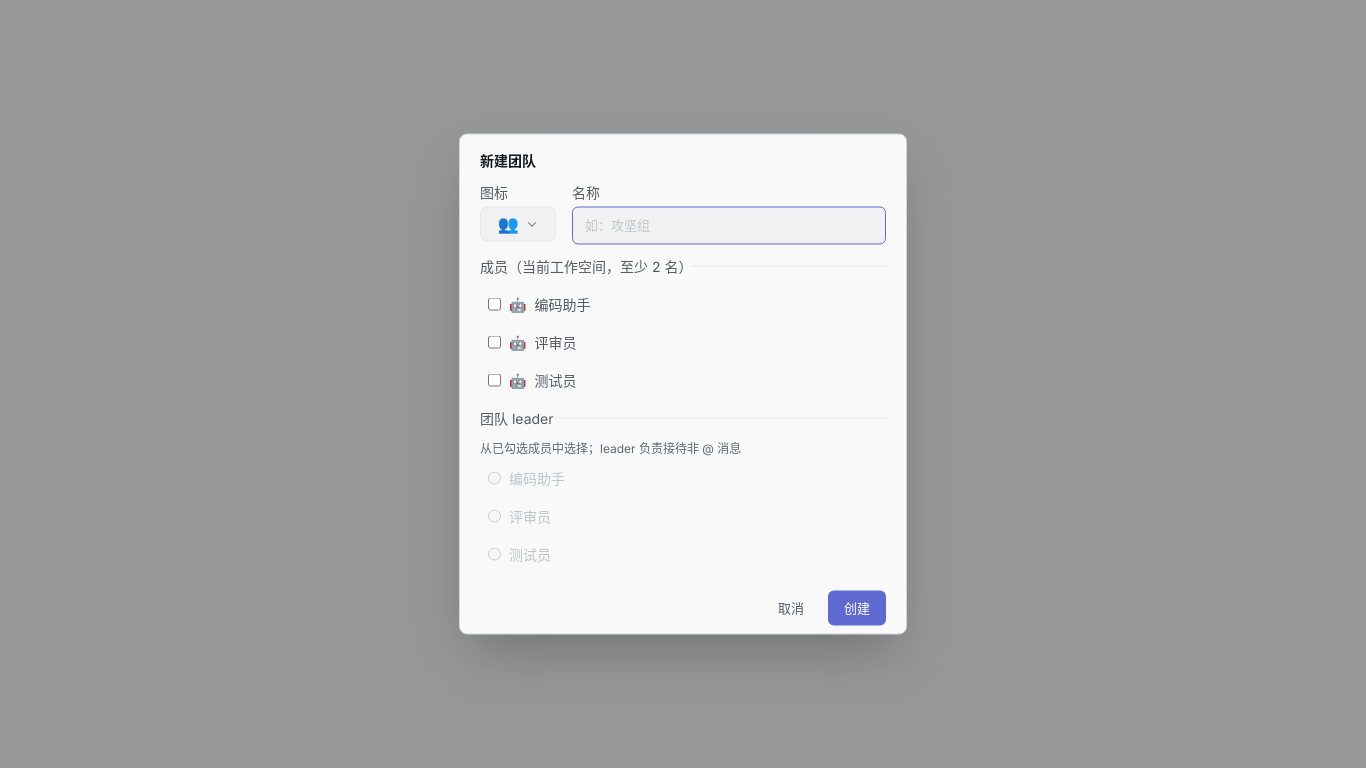
Scenario: TeamDialog — 创建模式校验 › 成员勾选不足 2 人 → 提示至少 2 名成员
This screenshot has width=1366, height=768.
Step 1. Type "攻坚组" into the field labelled "名称" → [729, 225], box [572,206,886,244]
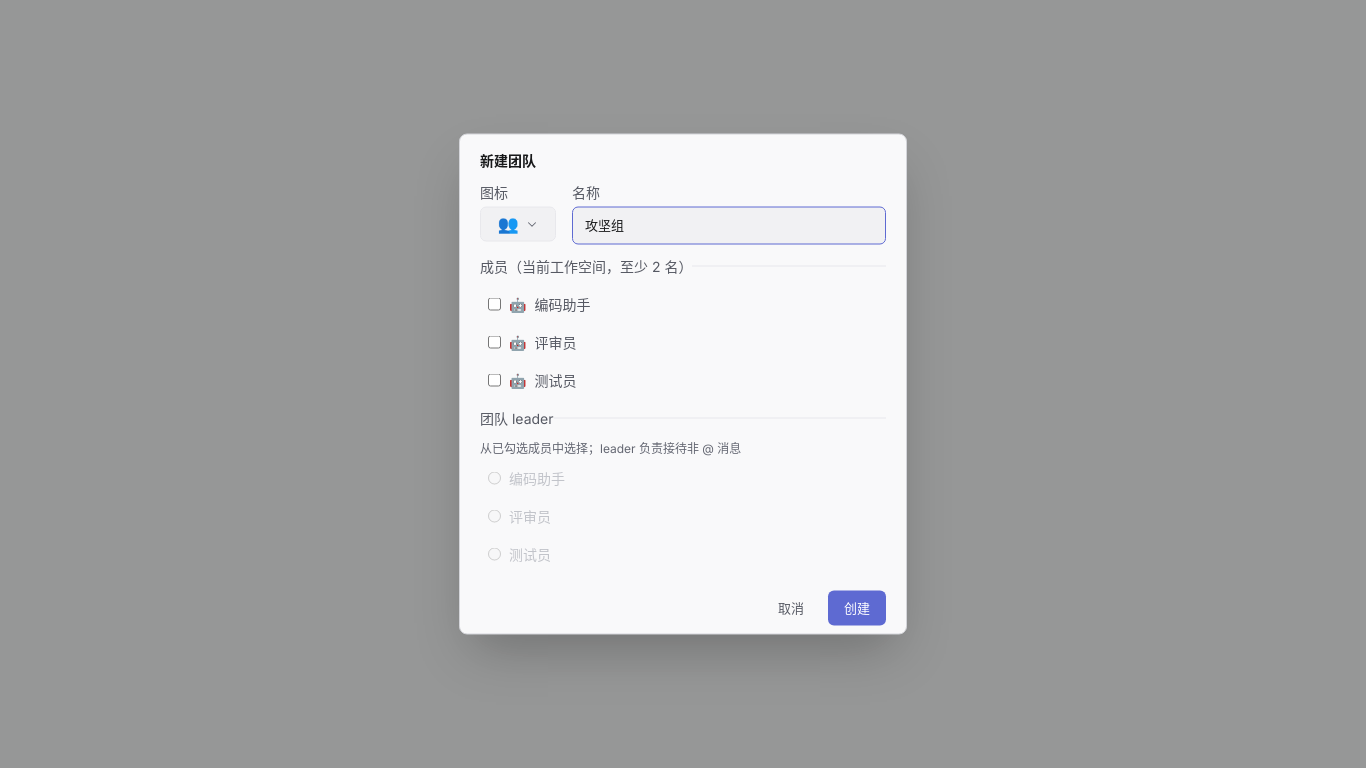
Step 2. Click the checkbox labelled "编码助手" → [494, 304], box [488,298,501,310]
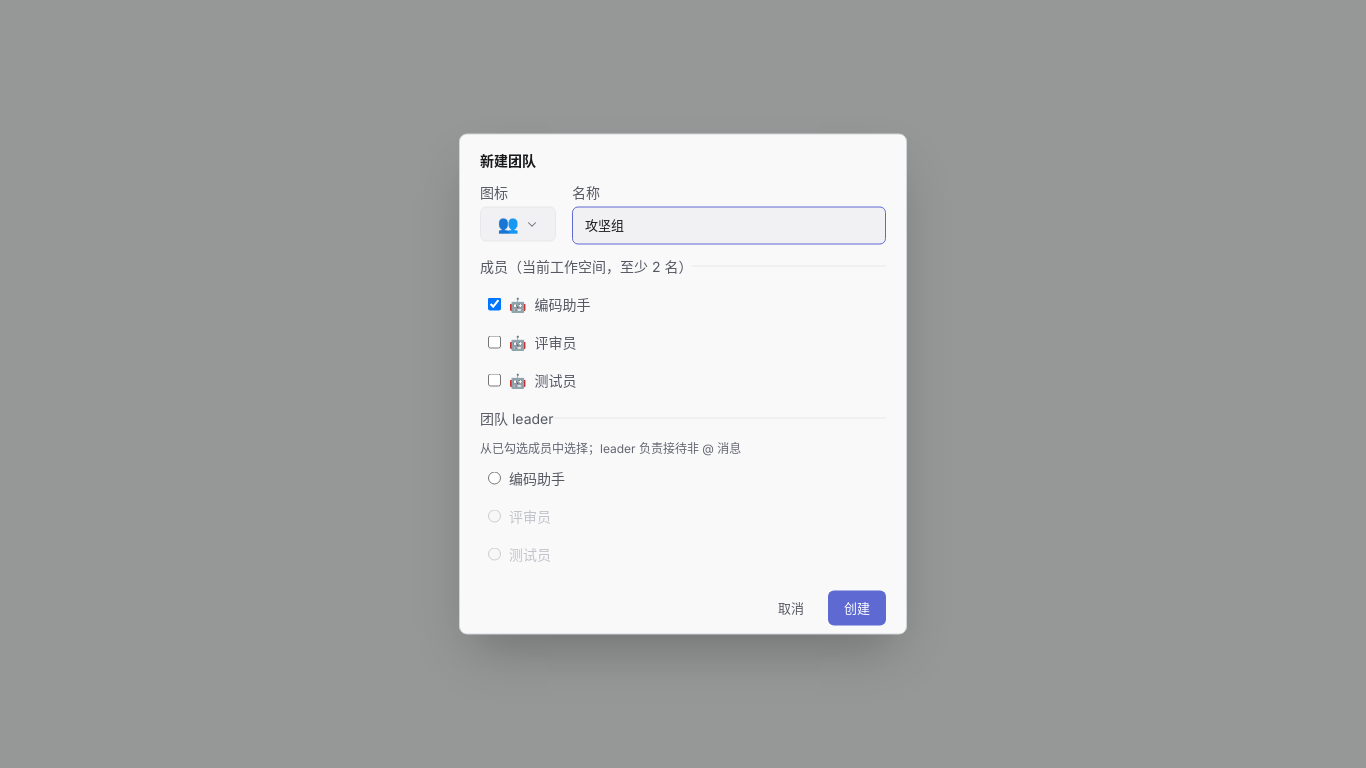
Step 3. Click the button "创建" → [857, 608], box [828,590,886,626]
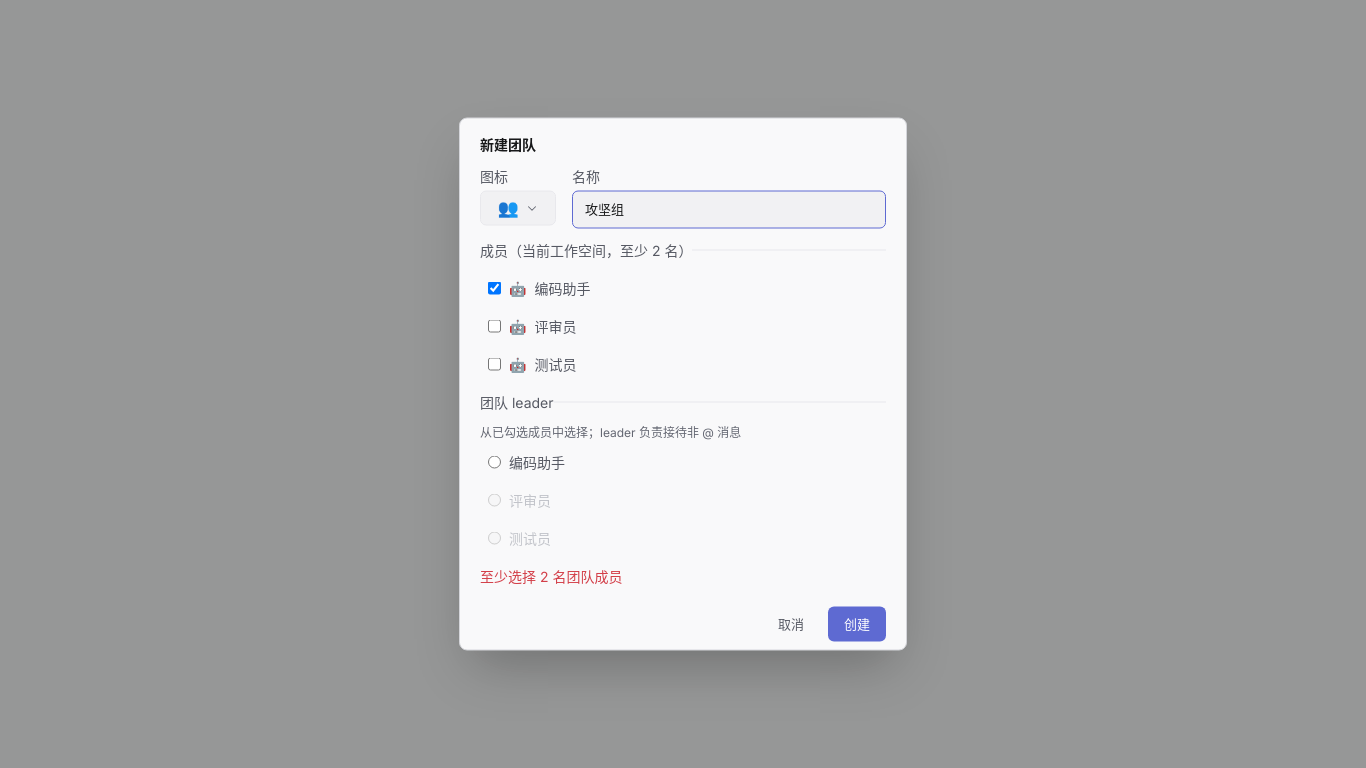
Check: the text "至少选择 2 名团队成员" is shown, box [480,567,622,584]
